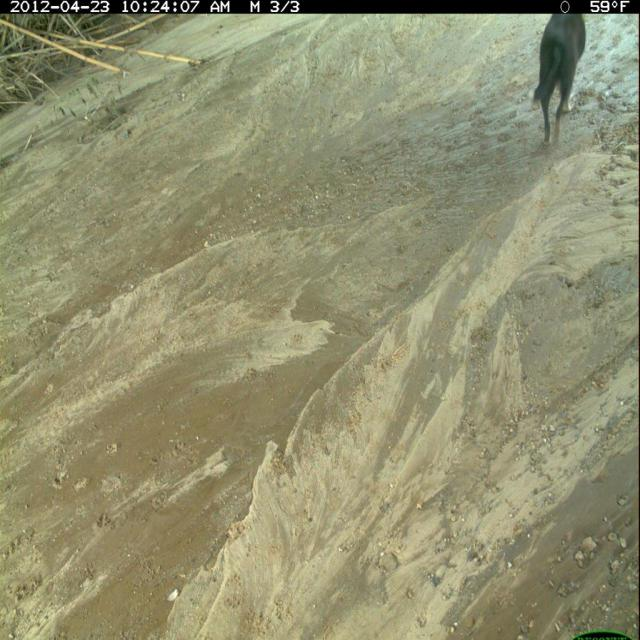dog: (530, 2, 592, 155)
